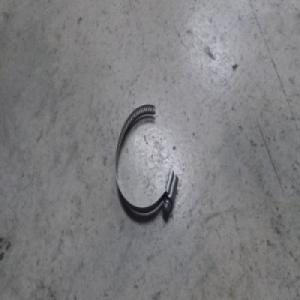AdjustableClamp: (113, 99, 178, 221)
